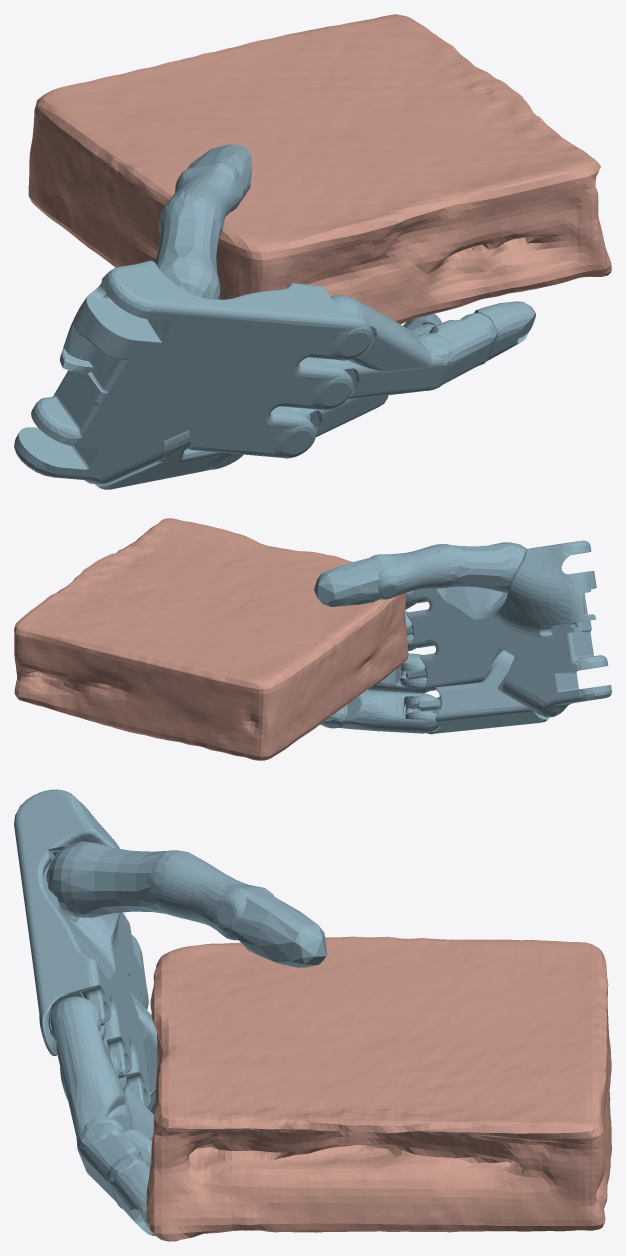
File: 1_joint.glb
3 views of the same model, one above another, from view 1: azimuth 30°, elevation 25°; view 2: azimuth 150°, elevation 25°; view 3: azimuth 270°, elevation 25° (orthographic). The views are drawn at different scales.
Visible parts, largest first — view 1: world; view 2: world; view 3: world.
Boxes of the visible parts, bbox=[...] form: world: bbox=[14, 14, 611, 489]; world: bbox=[14, 518, 611, 760]; world: bbox=[14, 789, 611, 1241].
Bounding box in the file's own units: 1.64 × 0.6957 × 1.32.
